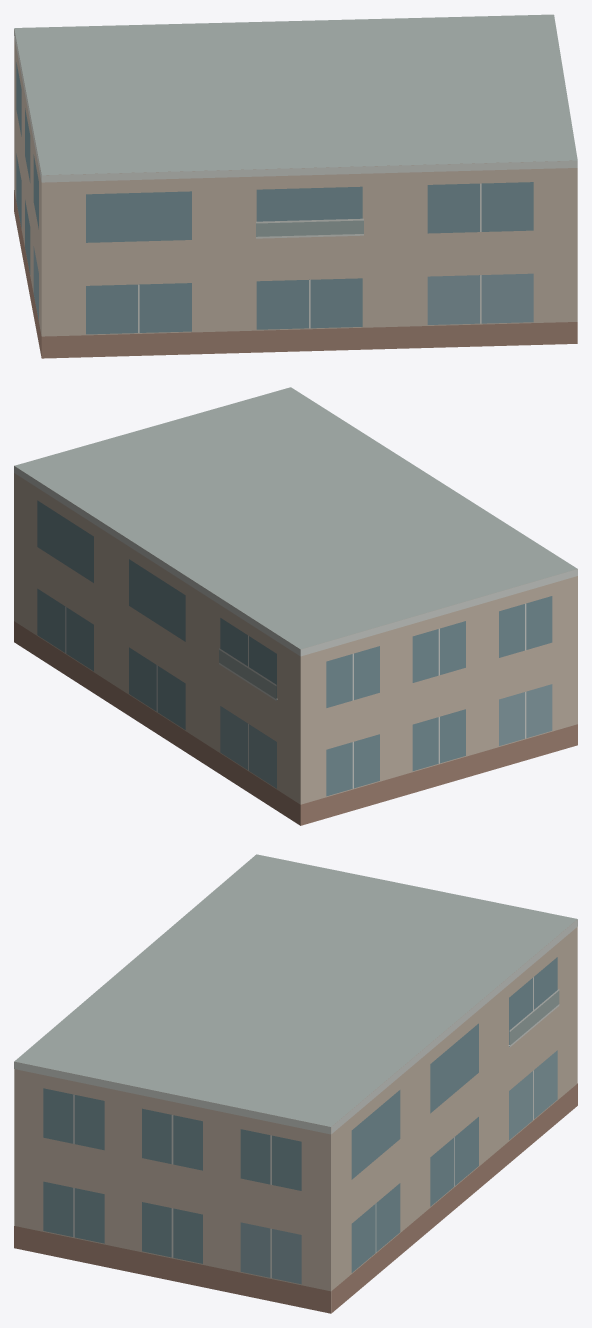
File: survey-upis-32893086.glb
The picture shows the model from 3 angles, top to bottom: view 1: azimuth 30°, elevation 25°; view 2: azimuth 150°, elevation 25°; view 3: azimuth 270°, elevation 25°; orthographic projection. The views are drawn at different scales.
Parts seen in each view (by area): view 1: survey-upis-32893086.tmp; view 2: survey-upis-32893086.tmp; view 3: survey-upis-32893086.tmp.
Part boxes in pixels (x1,y1,x2,y2): survey-upis-32893086.tmp: (14,14,577,358); survey-upis-32893086.tmp: (14,387,577,825); survey-upis-32893086.tmp: (14,854,577,1313).
Size of the model in its own units: 19.14 by 6.1 by 16.71.
